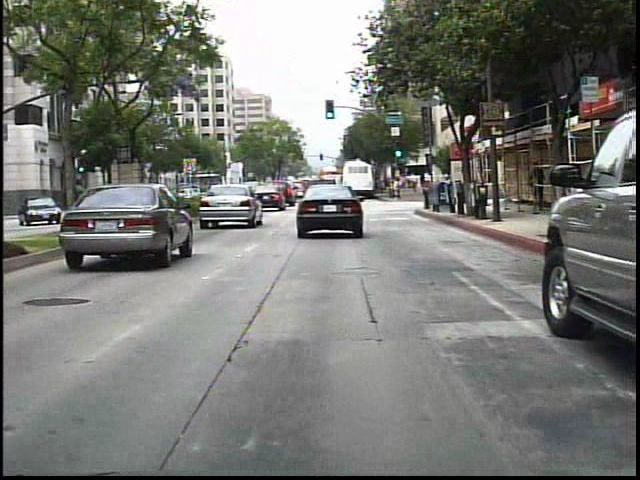person: (526, 154, 543, 217)
